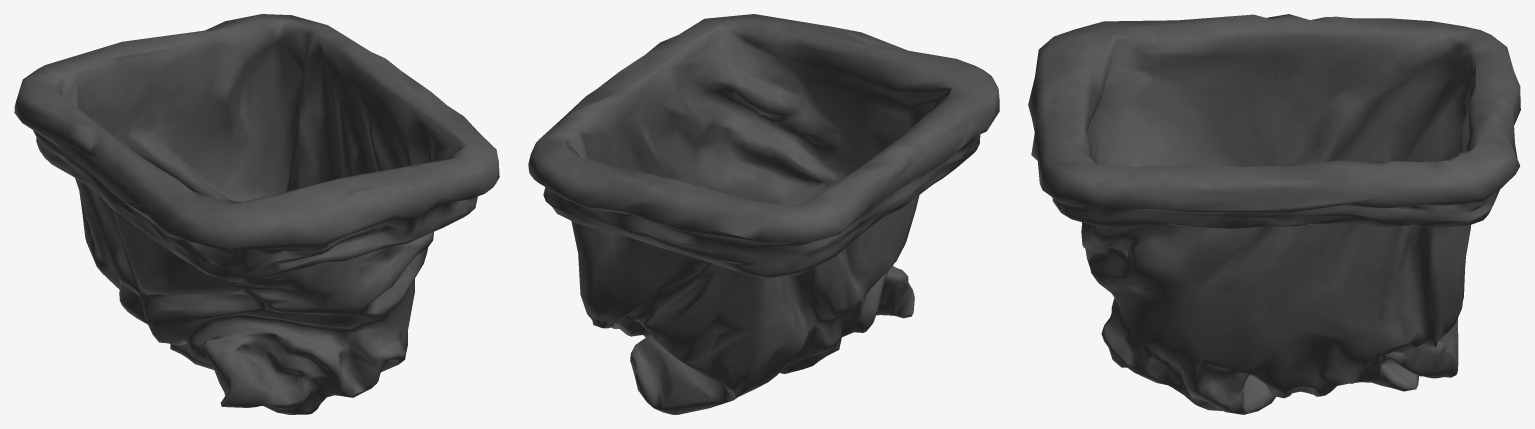
The model's file is SM_RPS_TrashBinBag01_c1_LOD1.fbx.
3 renders of one model, left to right at view 1: azimuth 30°, elevation 25°; view 2: azimuth 150°, elevation 25°; view 3: azimuth 270°, elevation 25°, orthographic. The views are drawn at different scales.
Parts seen in each view (by area): view 1: SM_RPS_TrashBinBag01_c1_LOD1_LOD0; view 2: SM_RPS_TrashBinBag01_c1_LOD1_LOD0; view 3: SM_RPS_TrashBinBag01_c1_LOD1_LOD0.
Boxes of the visible parts, x1,y1,x2,y2 form: SM_RPS_TrashBinBag01_c1_LOD1_LOD0: (14, 14, 499, 414); SM_RPS_TrashBinBag01_c1_LOD1_LOD0: (528, 14, 999, 414); SM_RPS_TrashBinBag01_c1_LOD1_LOD0: (1028, 14, 1520, 414).
Bounding box in the file's own units: 32.55 × 39.64 × 26.47.
